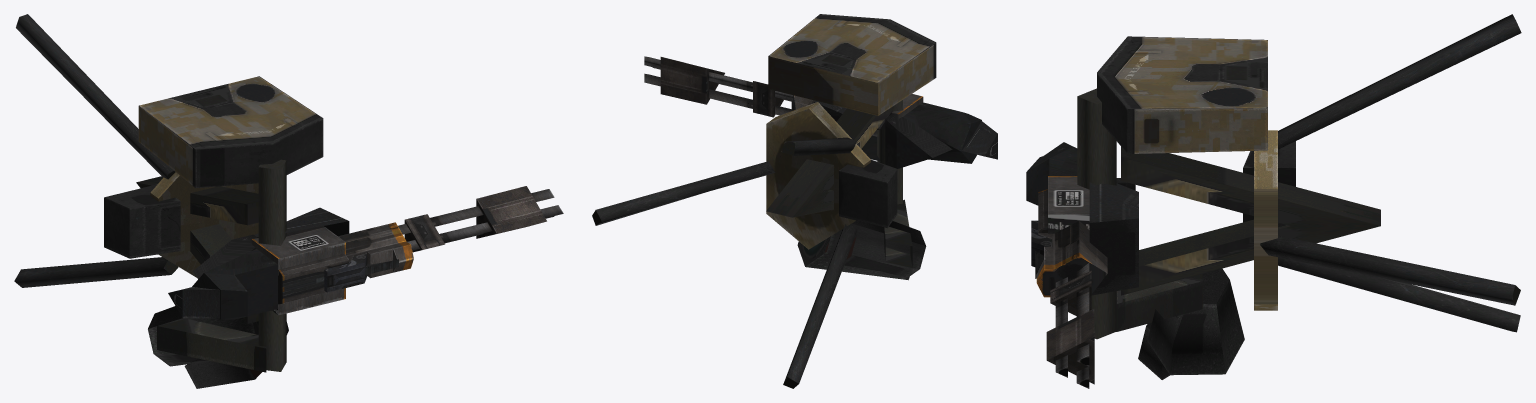
The model's file is t6_wpn_turret_sentry_gun_LOD2.obj.
3 renders of one model, left to right at view 1: azimuth 30°, elevation 25°; view 2: azimuth 150°, elevation 25°; view 3: azimuth 270°, elevation 25°, orthographic. The views are drawn at different scales.
Visible parts, largest first — view 1: mtl_t6_wpn_turret_sentry_gun_base, mtl_t6_wpn_minigun; view 2: mtl_t6_wpn_turret_sentry_gun_base, mtl_t6_wpn_minigun; view 3: mtl_t6_wpn_turret_sentry_gun_base, mtl_t6_wpn_minigun.
Boxes of the visible parts, x1,y1,x2,y2 form: mtl_t6_wpn_turret_sentry_gun_base: (14,14,323,388); mtl_t6_wpn_minigun: (168,186,563,319); mtl_t6_wpn_turret_sentry_gun_base: (592,14,936,388); mtl_t6_wpn_minigun: (644,56,997,168); mtl_t6_wpn_turret_sentry_gun_base: (1077,14,1521,379); mtl_t6_wpn_minigun: (1026,142,1138,388).
Bounding box in the file's own units: 147 × 102 × 144.
